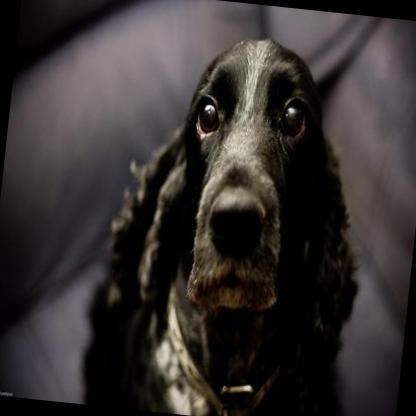cocker_spaniel: (75, 19, 384, 416)
